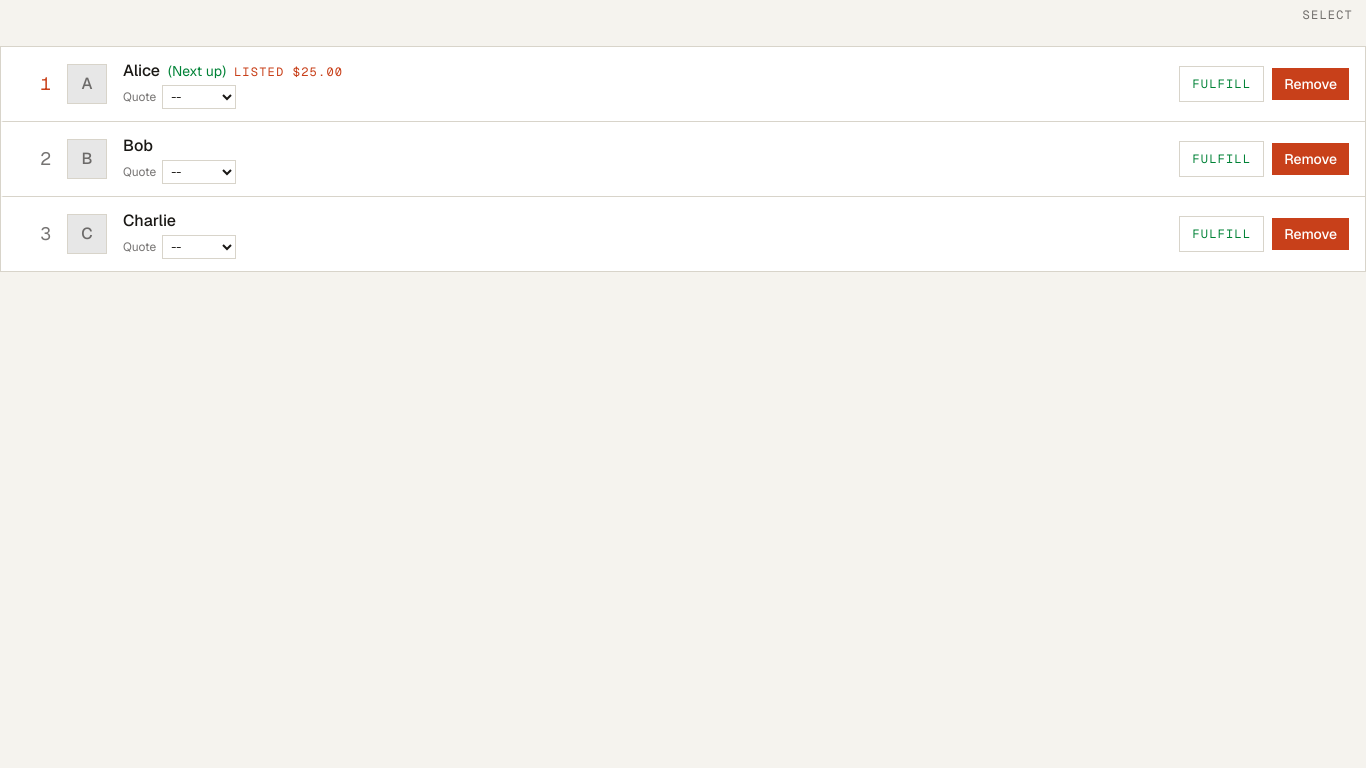
Test: QueueDisplay › Removal Modal › opens removal modal when Remove is clicked
The width and height of the screenshot is (1366, 768).
Step 1. Click the button "Remove" in the row of "$25.00" → x=1311, y=84, box 1272,68 -> 1349,100
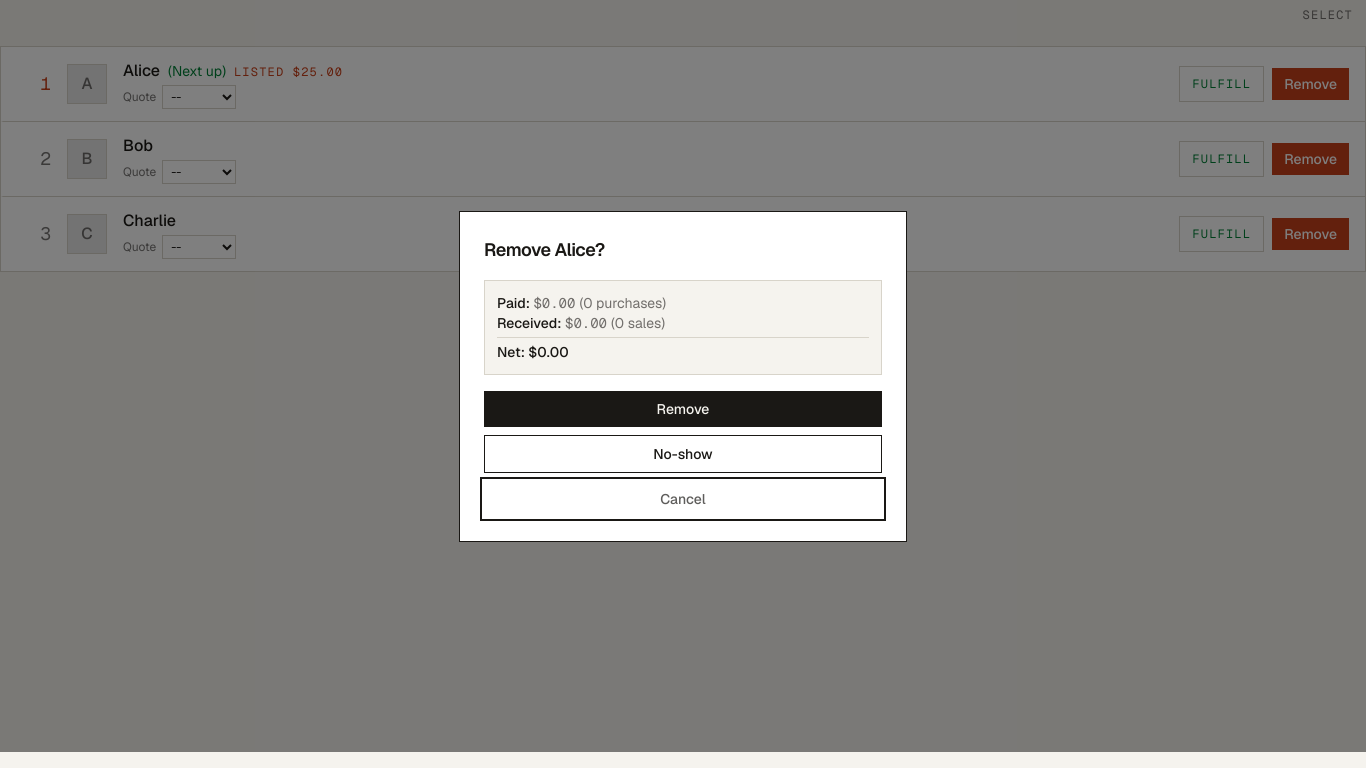
Result: the heading "Remove Alice?" is shown at 484,238 -> 605,260
